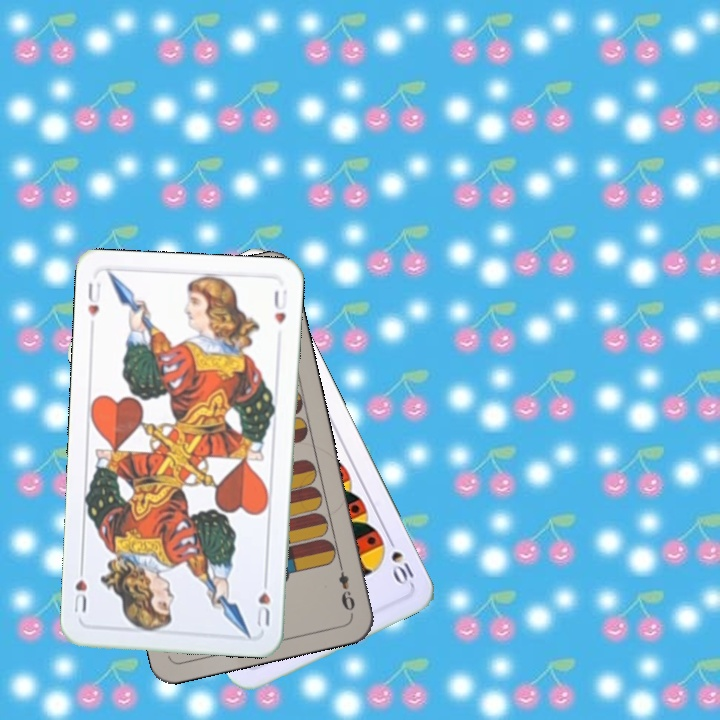E9: (334, 558, 358, 617)
HU: (253, 572, 273, 629), (83, 279, 103, 319)
S10: (383, 531, 418, 588)
